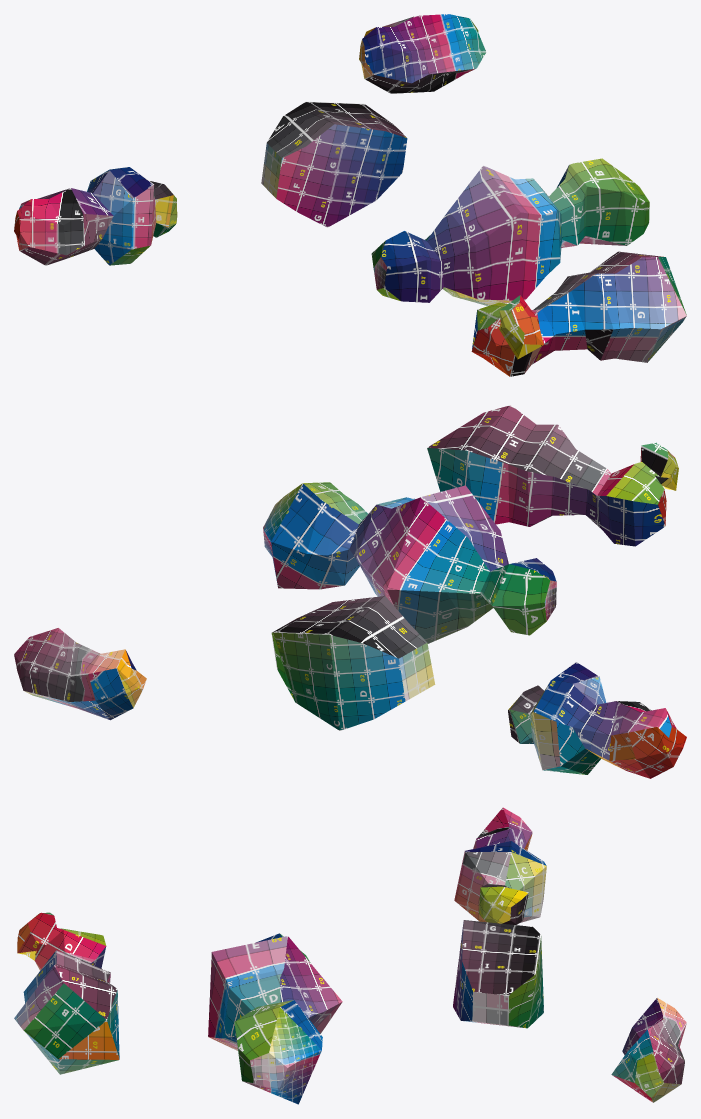
Rendered from matthaikirchplatz.glb.
The picture shows the model from 3 angles, top to bottom: view 1: azimuth 30°, elevation 25°; view 2: azimuth 150°, elevation 25°; view 3: azimuth 270°, elevation 25°; orthographic projection. The views are drawn at different scales.
Parts seen in each view (by area): view 1: cloud1, cloud2, cloud0, cloud3, cloud4; view 2: cloud1, cloud2, cloud0, cloud3, cloud4; view 3: cloud1, cloud2, cloud0, cloud3, cloud4.
Part boxes in pixels (left/top/right/bottom): cloud1: left=371, top=158, right=649, bottom=305; cloud2: left=471, top=251, right=686, bottom=376; cloud0: left=261, top=101, right=407, bottom=227; cloud3: left=14, top=167, right=177, bottom=265; cloud4: left=359, top=14, right=486, bottom=93; cloud1: left=263, top=482, right=556, bottom=643; cloud2: left=427, top=405, right=678, bottom=546; cloud0: left=271, top=596, right=435, bottom=730; cloud3: left=508, top=662, right=686, bottom=778; cloud4: left=14, top=628, right=146, bottom=720; cloud1: left=208, top=933, right=342, bottom=1104; cloud2: left=14, top=912, right=119, bottom=1074; cloud0: left=453, top=920, right=543, bottom=1028; cloud3: left=454, top=807, right=546, bottom=924; cloud4: left=611, top=998, right=686, bottom=1102.
Size of the model in its own units: 14.5 by 3.65 by 16.15.
Materials: 5 (5 with a texture image).
